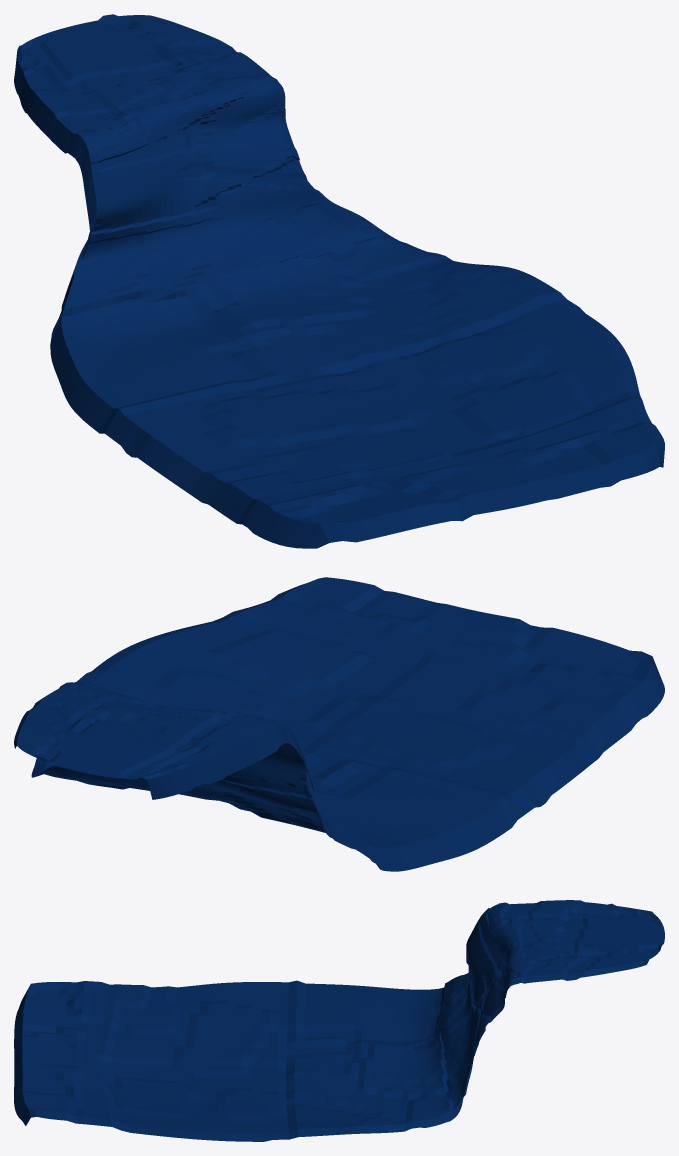
The model's file is Cascade_hp.fbx.
3 renders of one model, top to bottom at view 1: azimuth 30°, elevation 25°; view 2: azimuth 150°, elevation 25°; view 3: azimuth 270°, elevation 25°, orthographic. The views are drawn at different scales.
Visible parts, largest first — view 1: Cascade_eau_hp; view 2: Cascade_eau_hp; view 3: Cascade_eau_hp.
Part boxes in pixels (box(x1,y1,x2,y2)): Cascade_eau_hp: box(14, 14, 664, 548); Cascade_eau_hp: box(14, 577, 664, 871); Cascade_eau_hp: box(14, 900, 664, 1141).
Size of the model in its own units: 31.77 by 12.28 by 51.63.
